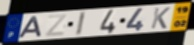4: (125, 7, 146, 32), (99, 9, 117, 35)
A: (17, 16, 44, 40)
I: (75, 11, 88, 37)
K: (149, 7, 172, 30)
Z: (44, 13, 69, 38)
